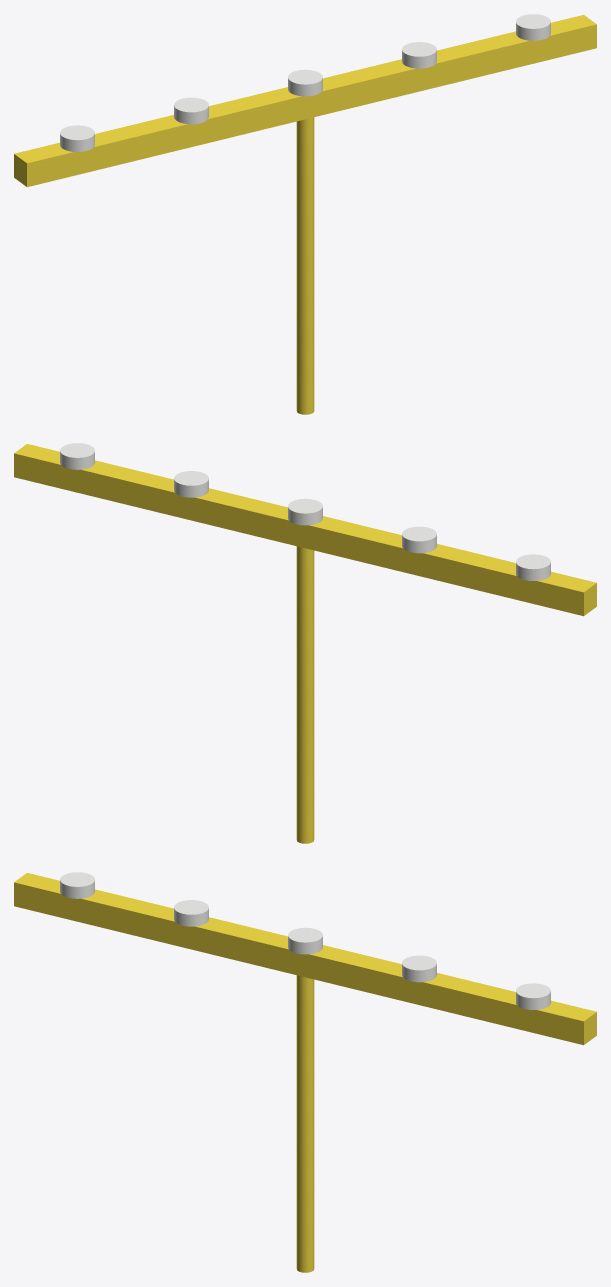
The model's file is approach_lights.glb.
The picture shows the model from 3 angles, top to bottom: view 1: azimuth 30°, elevation 25°; view 2: azimuth 150°, elevation 25°; view 3: azimuth 330°, elevation 25°; orthographic projection.
Visible parts, largest first — view 1: crossbar, mast, lamp_2, lamp_5, lamp_4, lamp_3, lamp_1; view 2: crossbar, mast, lamp_2, lamp_5, lamp_4, lamp_3, lamp_1; view 3: crossbar, mast, lamp_1, lamp_4, lamp_2, lamp_3, lamp_5.
Part boxes in pixels (<box>): crossbar: <box>14,15,596,187</box>; mast: <box>296,117,314,414</box>; lamp_2: <box>174,97,208,124</box>; lamp_5: <box>516,14,550,40</box>; lamp_4: <box>402,42,436,68</box>; lamp_3: <box>288,69,322,96</box>; lamp_1: <box>60,125,94,151</box>; crossbar: <box>14,444,596,616</box>; mast: <box>296,546,314,843</box>; lamp_2: <box>402,526,436,553</box>; lamp_5: <box>60,443,94,469</box>; lamp_4: <box>174,471,208,497</box>; lamp_3: <box>288,498,322,525</box>; lamp_1: <box>516,554,550,580</box>; crossbar: <box>14,873,596,1045</box>; mast: <box>296,975,314,1272</box>; lamp_1: <box>60,872,94,898</box>; lamp_4: <box>402,955,436,982</box>; lamp_2: <box>174,900,208,926</box>; lamp_3: <box>288,927,322,954</box>; lamp_5: <box>516,983,550,1009</box>.
Size of the model in its own units: 3 by 1.68 by 0.16.
